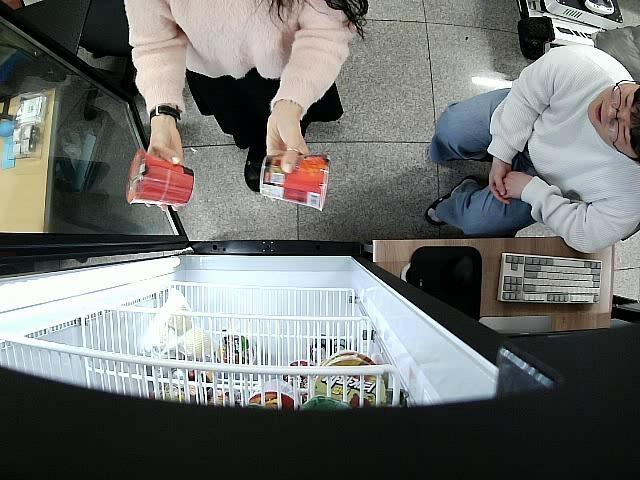02_shinRamen_S: (124, 148, 195, 208), (260, 154, 334, 210)
